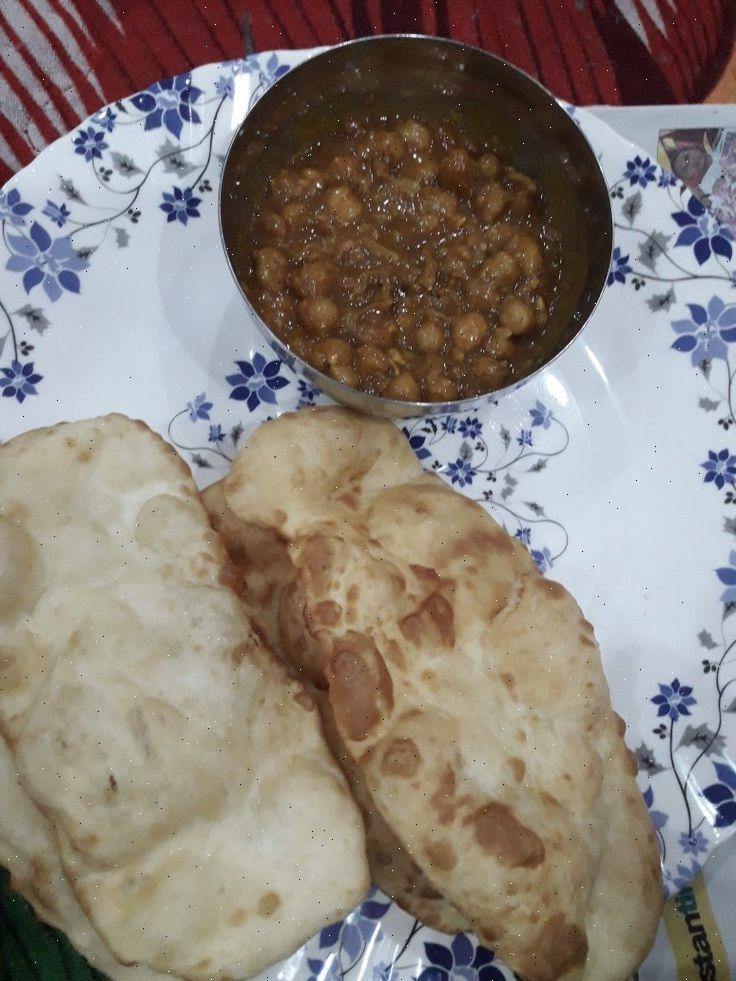chole: (255, 116, 603, 392)
